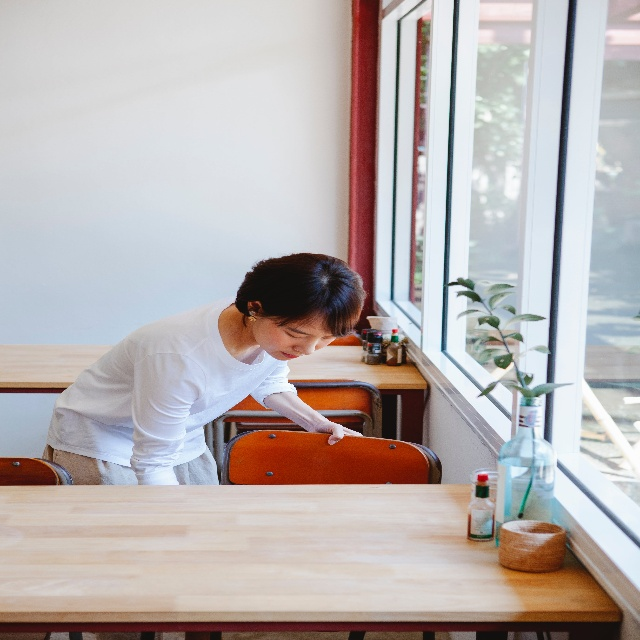Sin_guantes: (310, 415, 362, 447)
